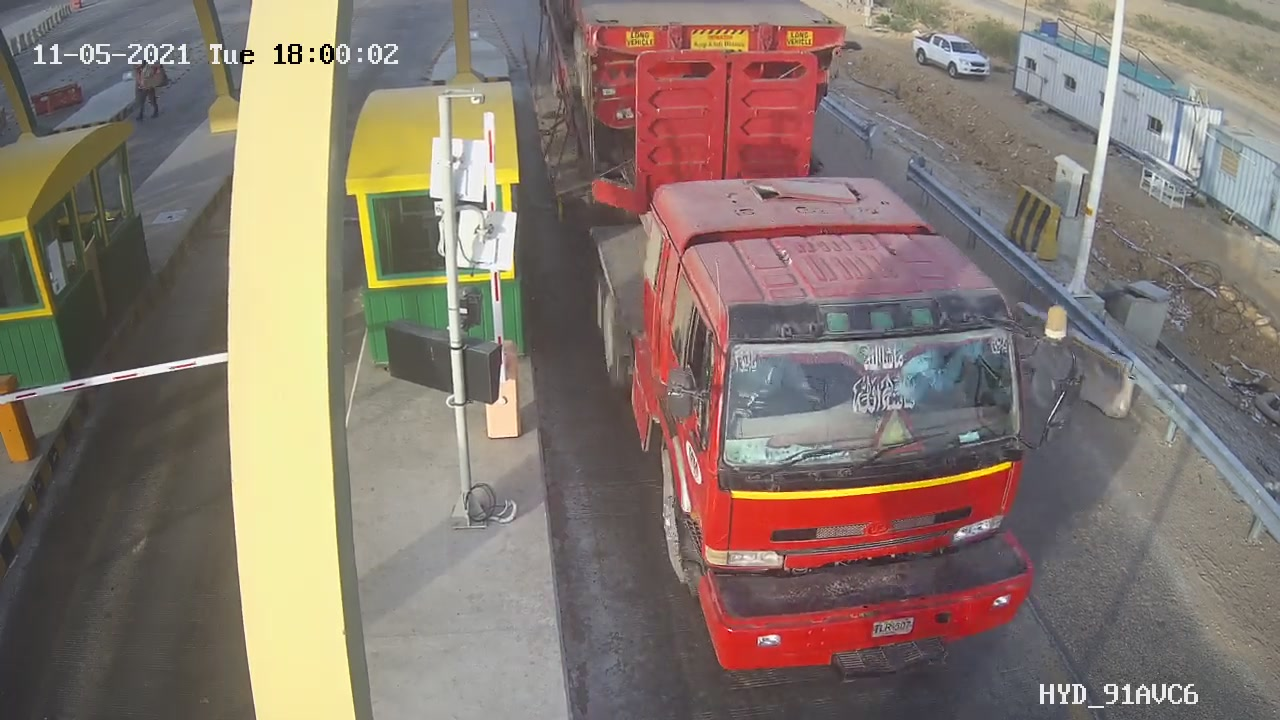F6: (545, 13, 1060, 685)
